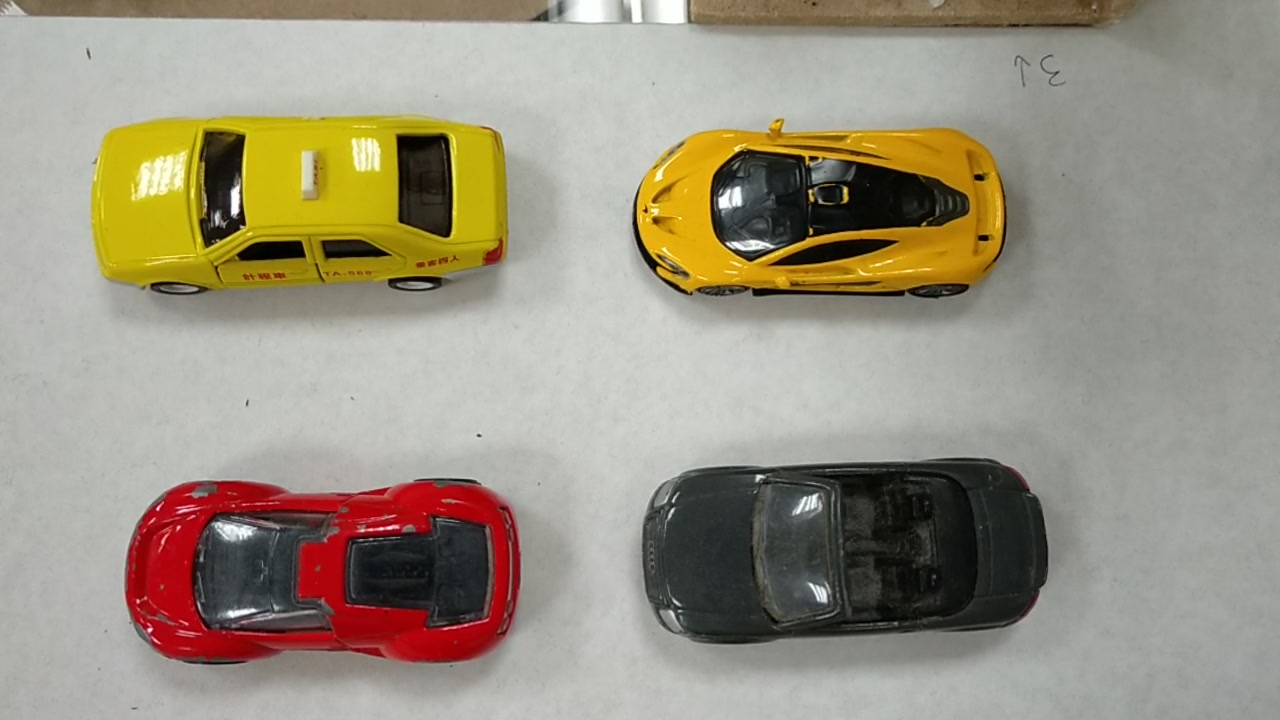car: (81, 113, 506, 286), (640, 466, 1053, 643), (123, 487, 527, 666), (629, 129, 1015, 301)
